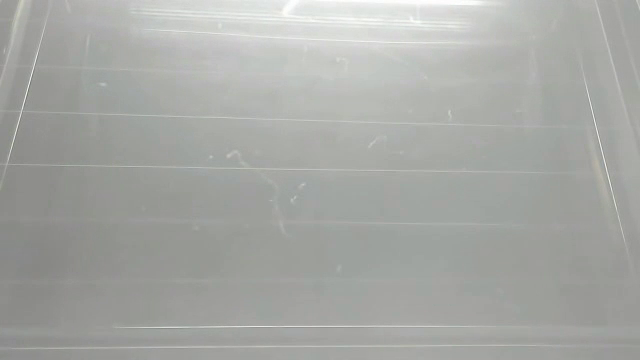alpha: (280, 1, 299, 18)
